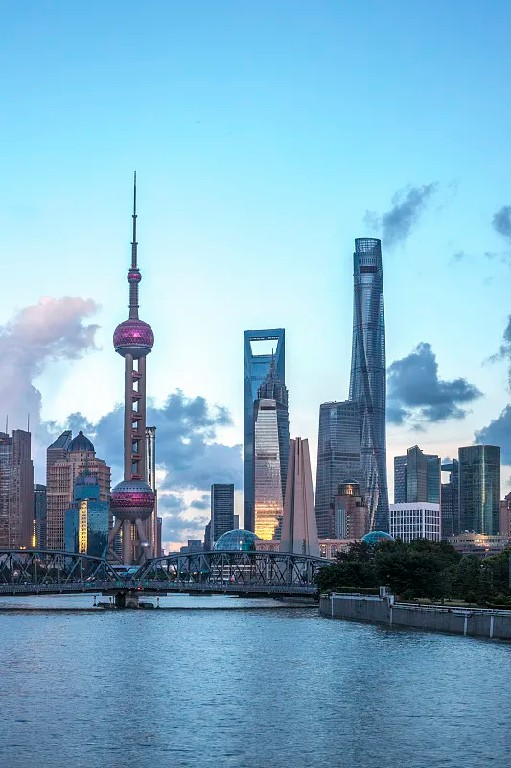Oriental: (109, 170, 154, 562)
